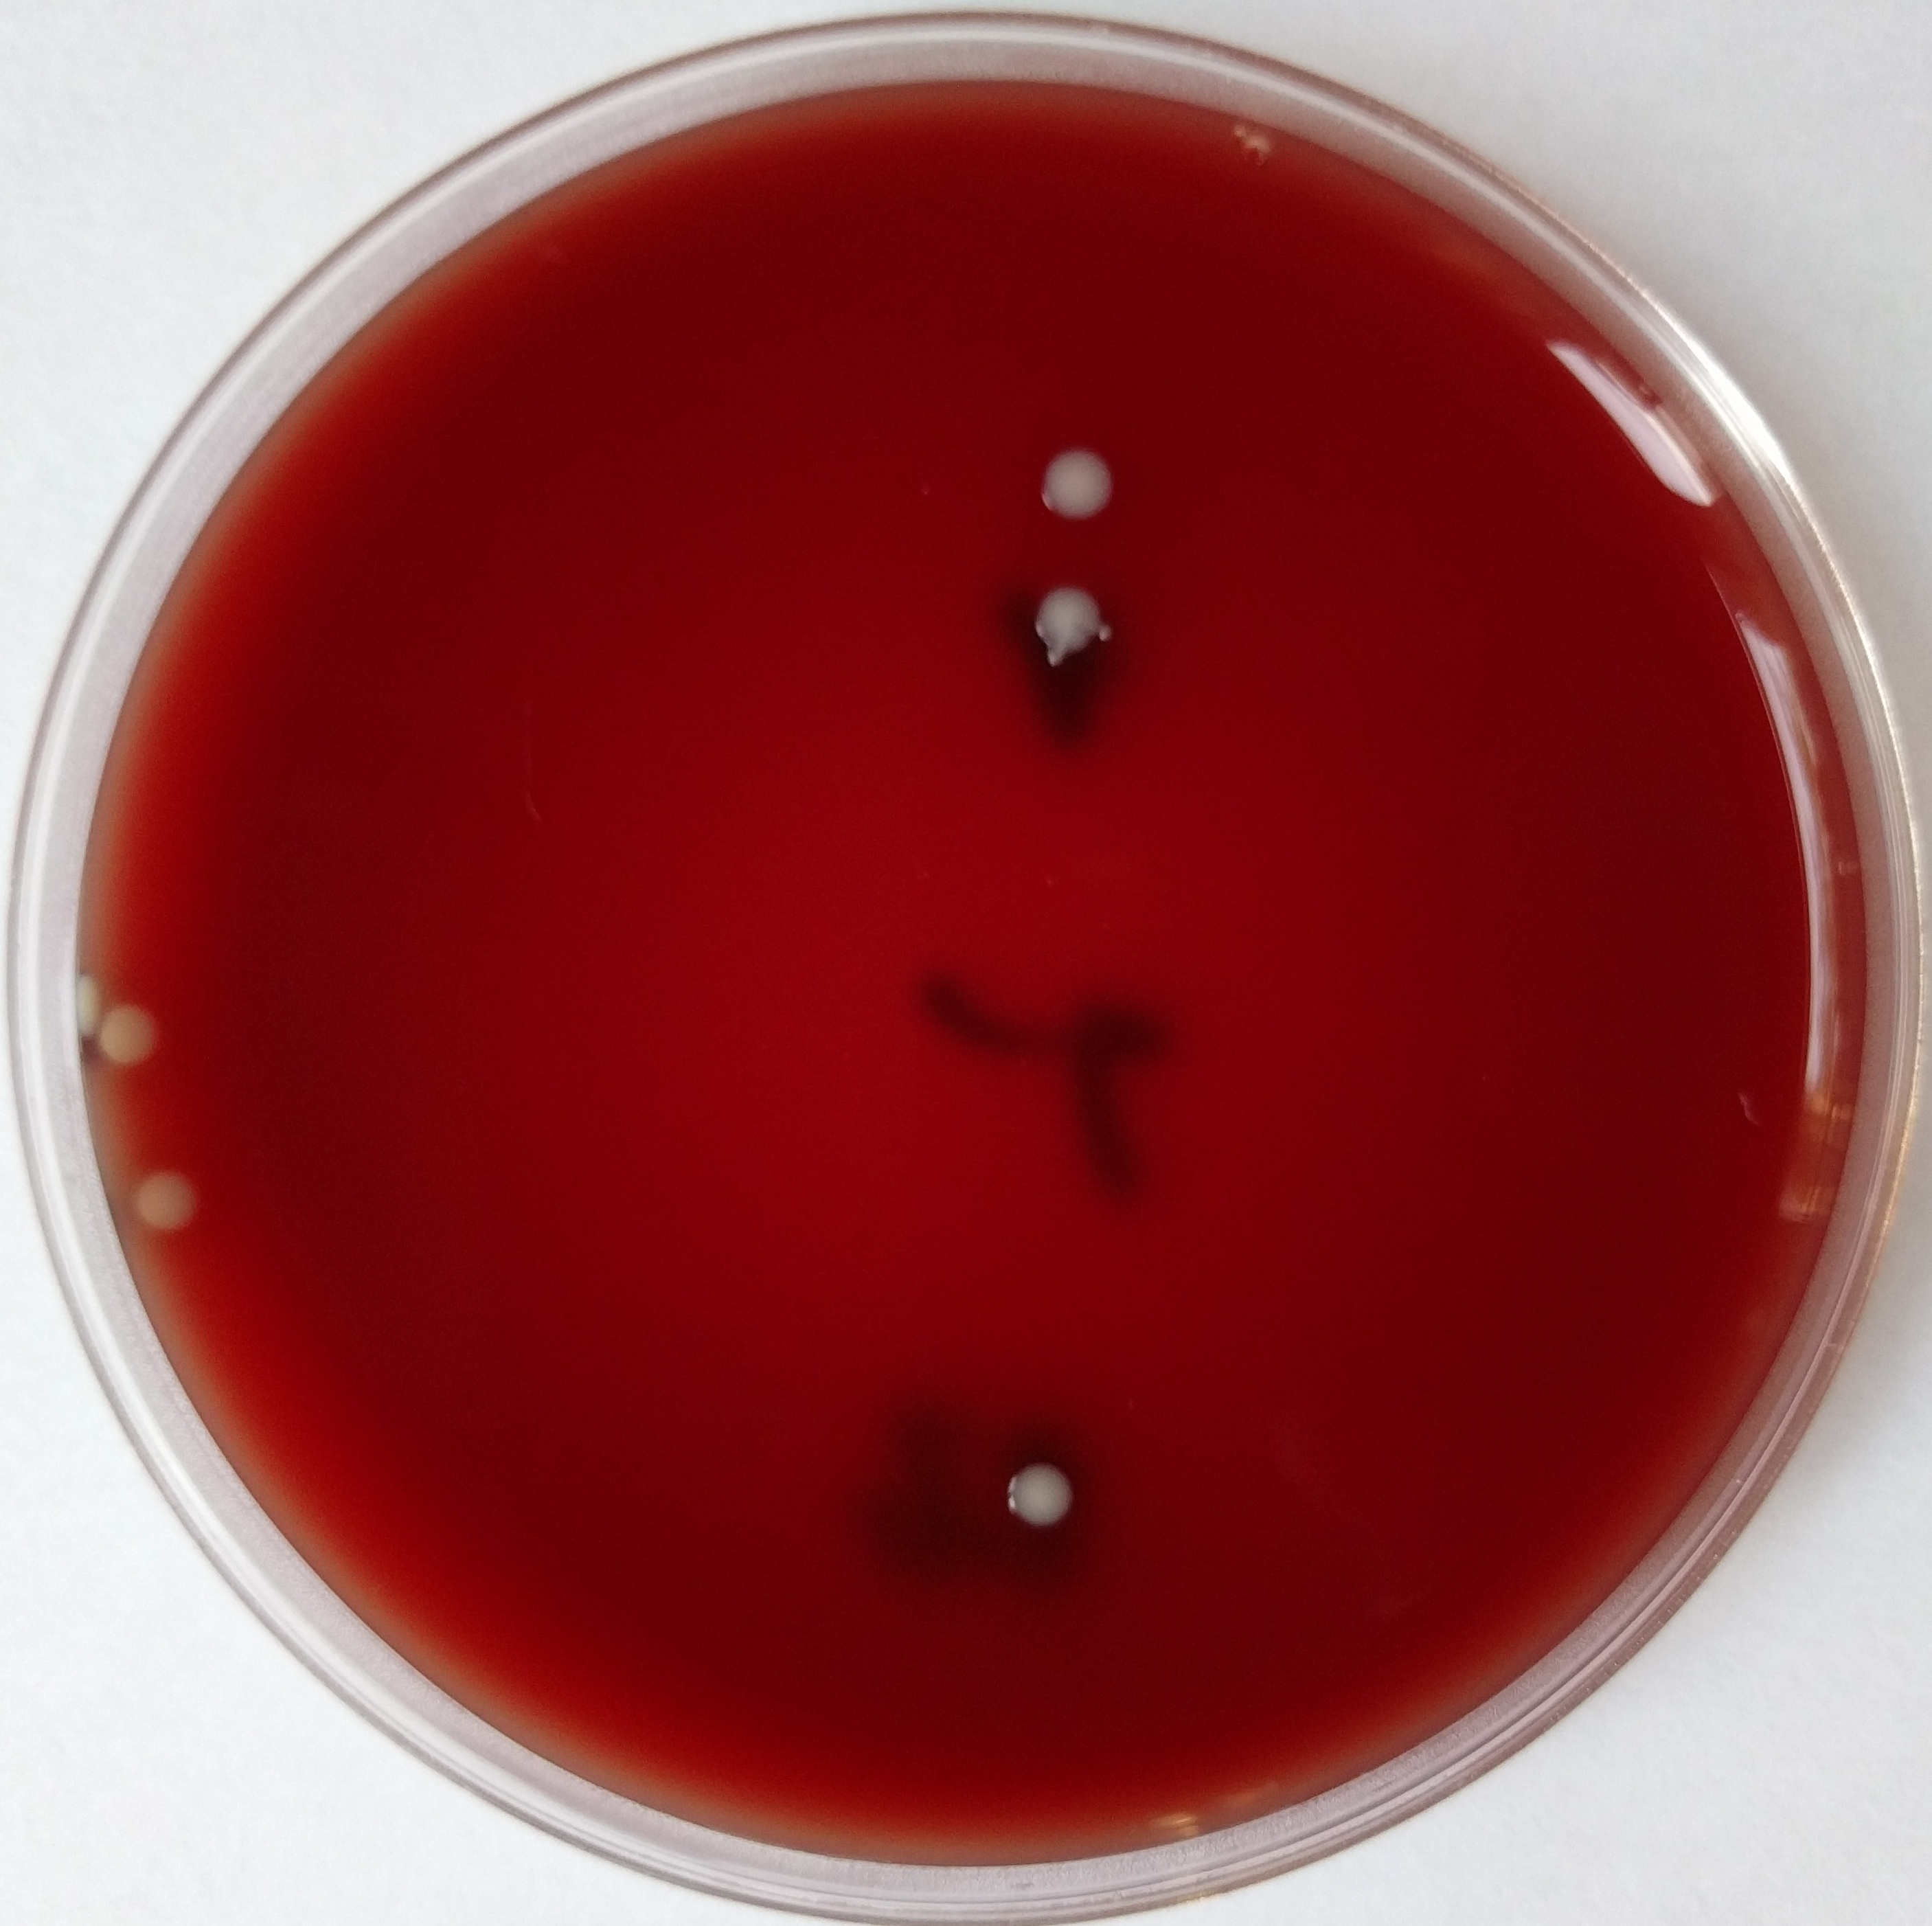sp01: (1003, 432, 1144, 536), (996, 582, 1126, 686), (996, 1441, 1089, 1550), (130, 1132, 215, 1249), (90, 989, 176, 1065)
